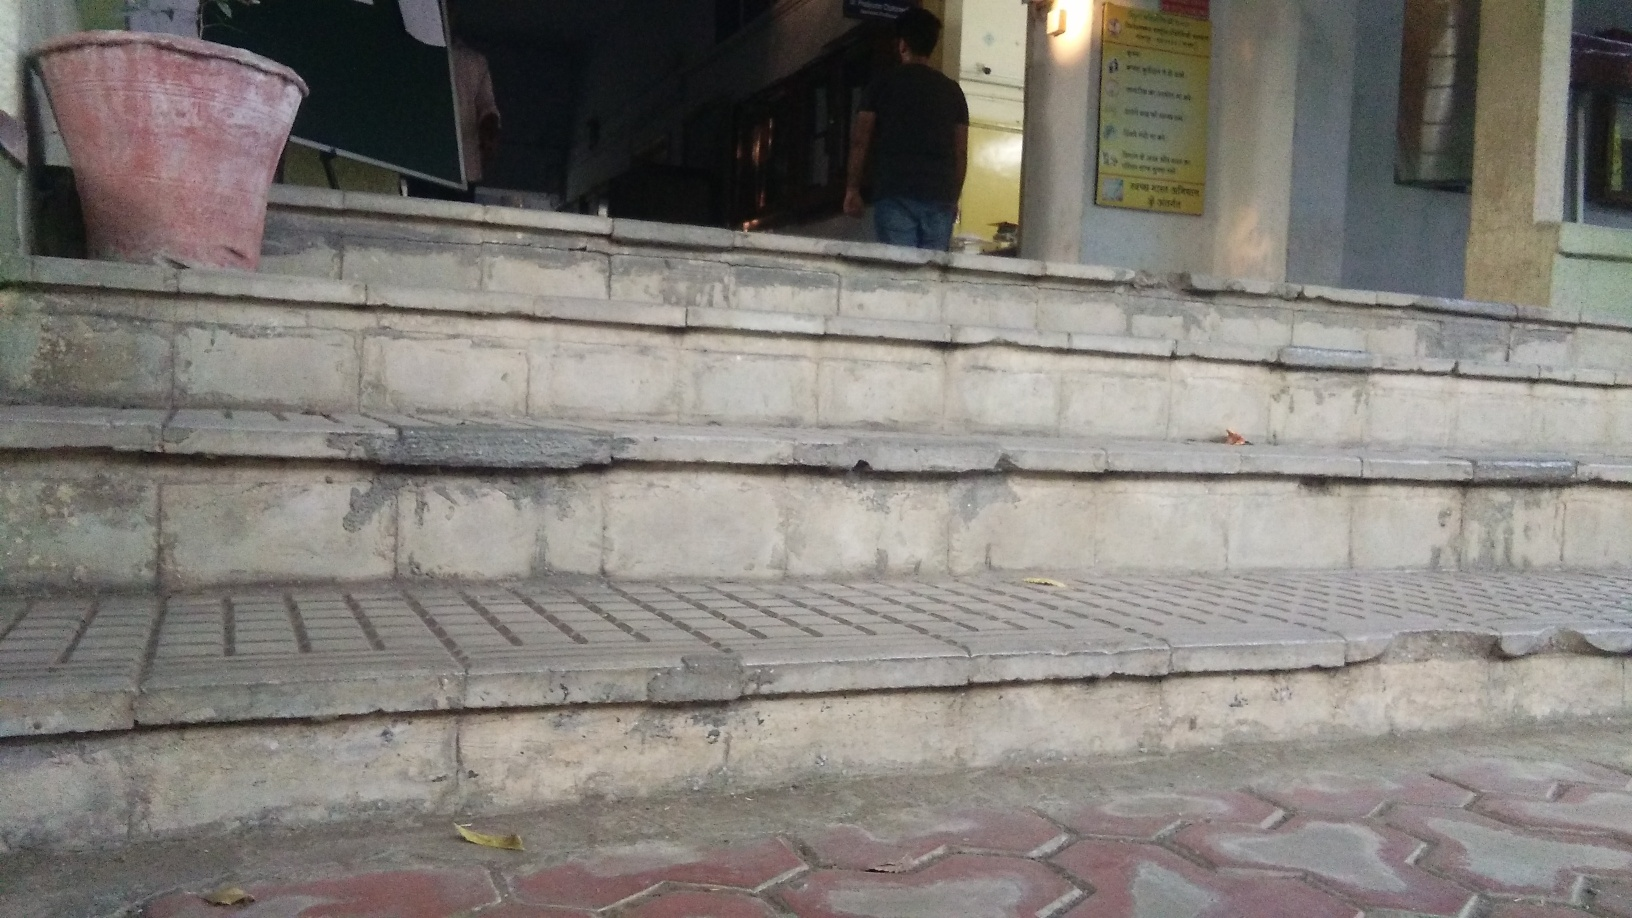stairs_up: (52, 171, 1628, 727)
